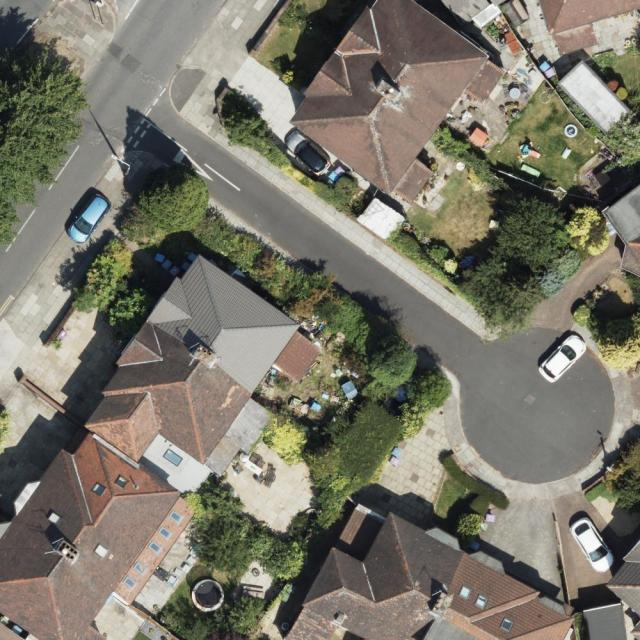roof: (0, 254, 321, 640), (289, 0, 506, 208), (283, 496, 577, 640), (538, 0, 640, 57), (598, 181, 640, 277), (603, 538, 640, 618), (582, 605, 628, 640)
skylight: (162, 447, 184, 468), (91, 541, 110, 560), (497, 615, 515, 635), (91, 481, 109, 498), (473, 591, 489, 610), (47, 509, 63, 527), (457, 583, 472, 602), (113, 472, 129, 489), (123, 576, 138, 592), (133, 561, 148, 577), (148, 540, 163, 555), (168, 511, 184, 525), (157, 526, 170, 540)
